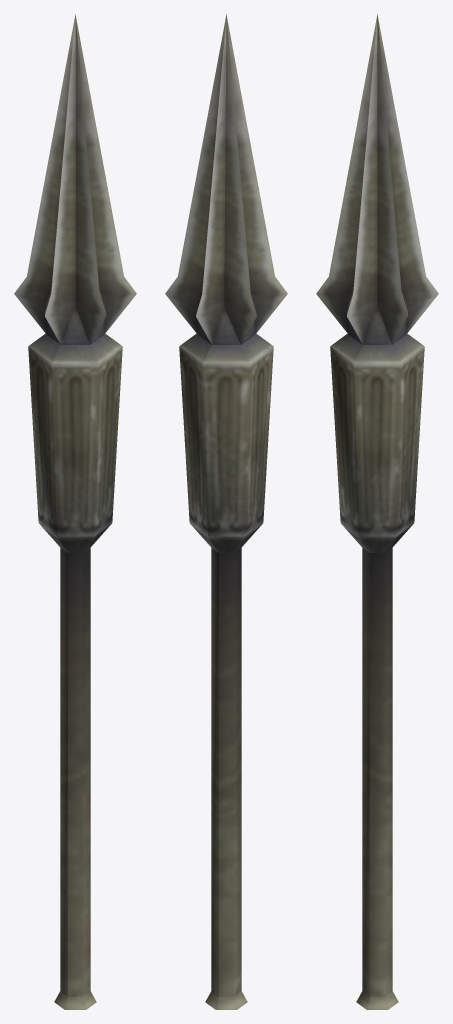
Rendered from templarLanceR.glb.
3 renders of one model, left to right at view 1: azimuth 90°, elevation 25°; view 2: azimuth 150°, elevation 25°; view 3: azimuth 270°, elevation 25°, orthographic.
Parts seen in each view (by area): view 1: templarLanceR; view 2: templarLanceR; view 3: templarLanceR.
Boxes of the visible parts, left/top/right/bottom form: templarLanceR: left=14, top=14, right=136, bottom=1009; templarLanceR: left=165, top=14, right=287, bottom=1009; templarLanceR: left=316, top=14, right=438, bottom=1009.
Bounding box in the file's own units: 0.3023 × 3.12 × 0.3491.
Materials: 1 (1 with a texture image).
